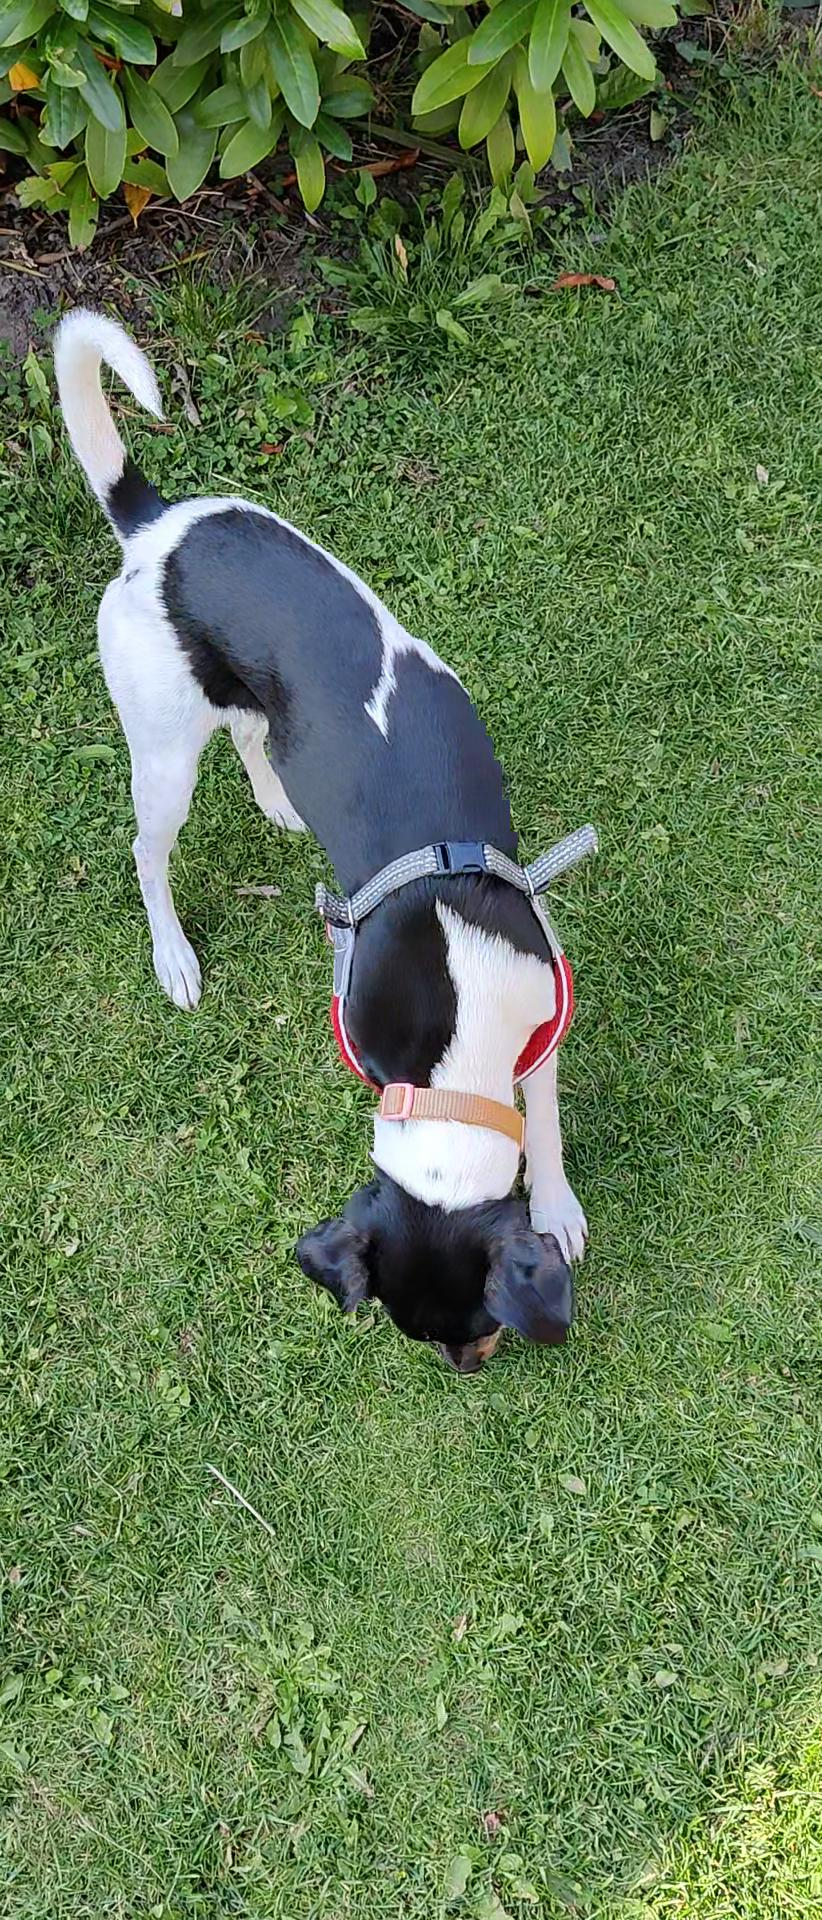Dog: (29, 301, 628, 1376)
